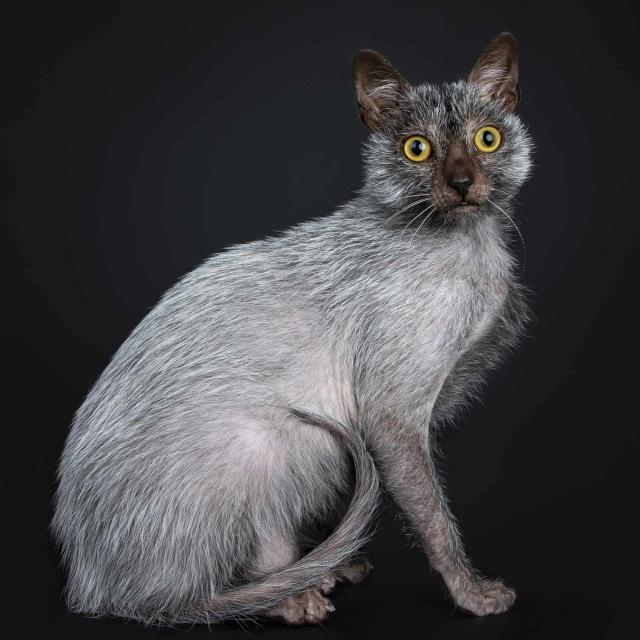Lykoi: (47, 26, 545, 627)
